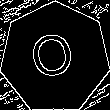O_S: (29, 28, 81, 88)
